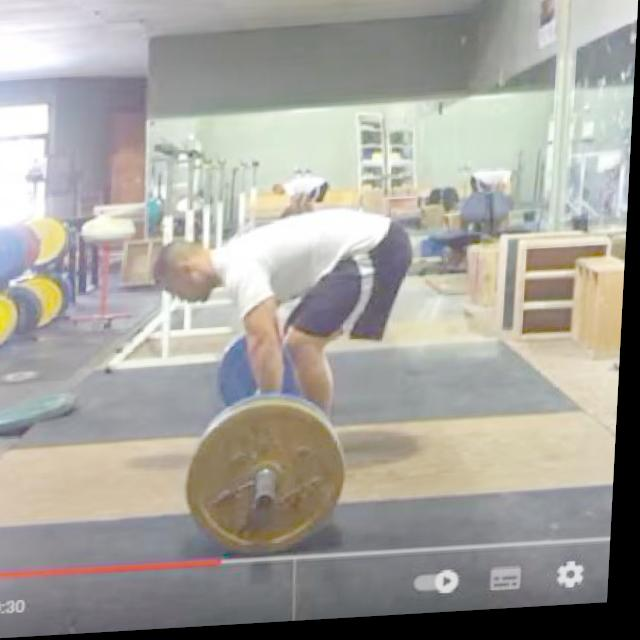barbell: (186, 400, 358, 565)
